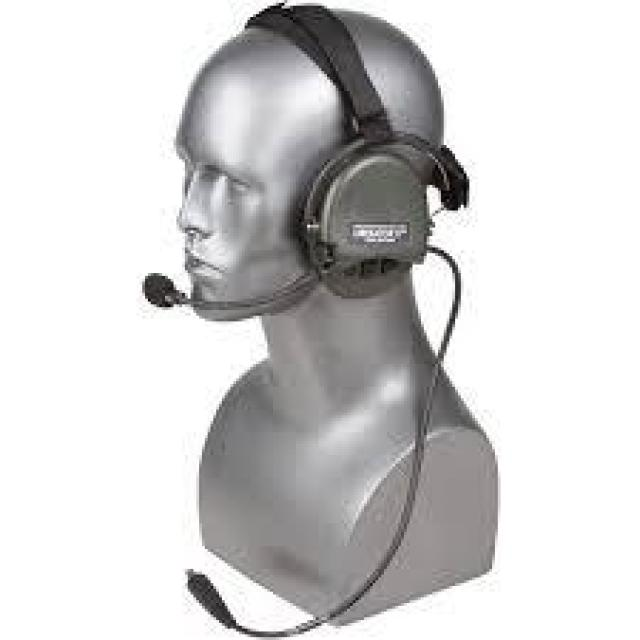Ear-protection: (228, 13, 478, 316)
